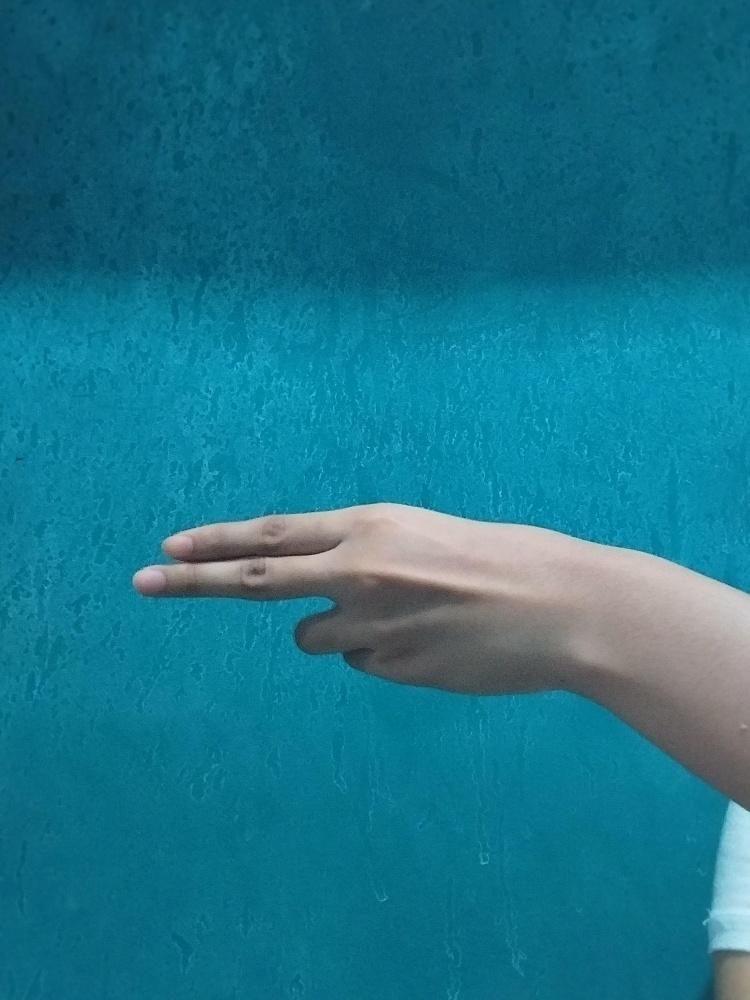h: (132, 497, 564, 701)
